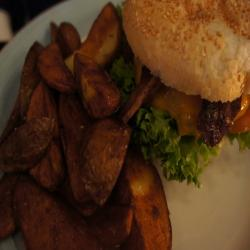burger: (122, 1, 250, 160)
fries: (5, 7, 152, 246)
